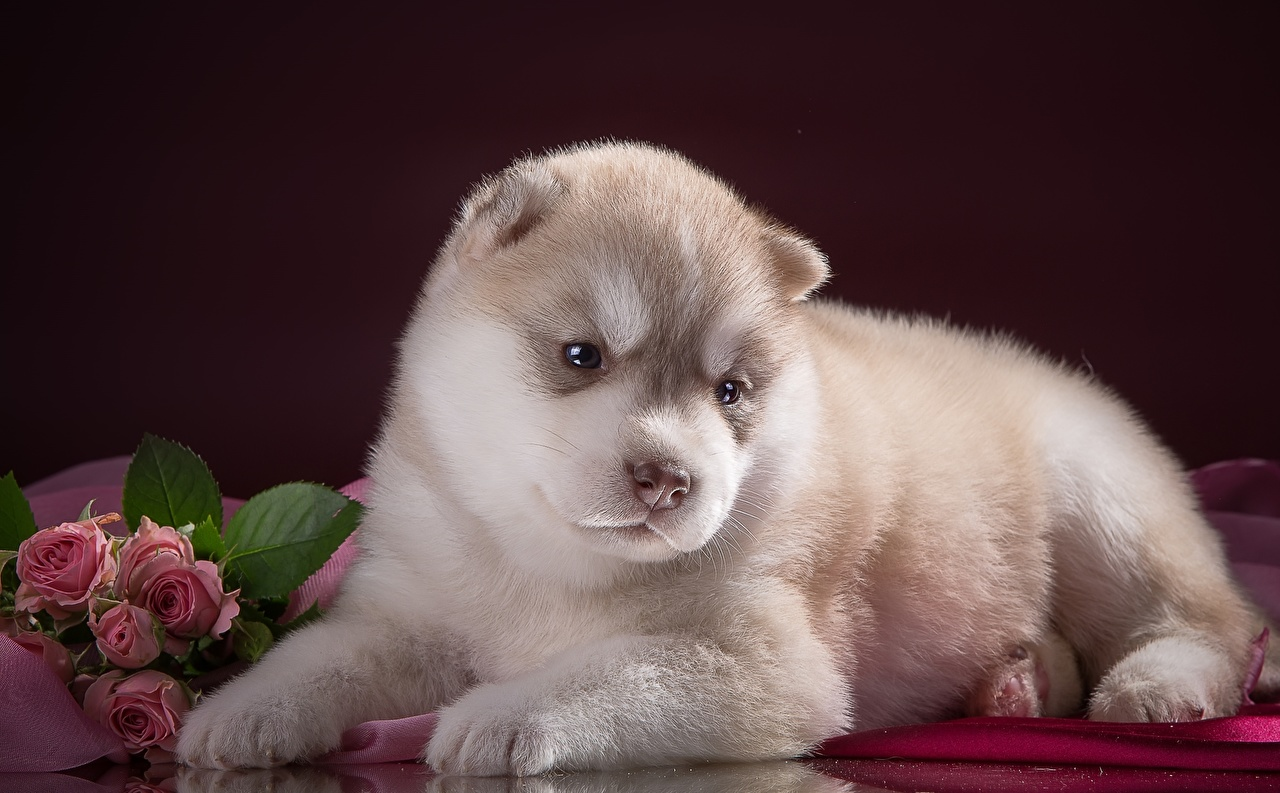husky: (354, 105, 857, 582)
